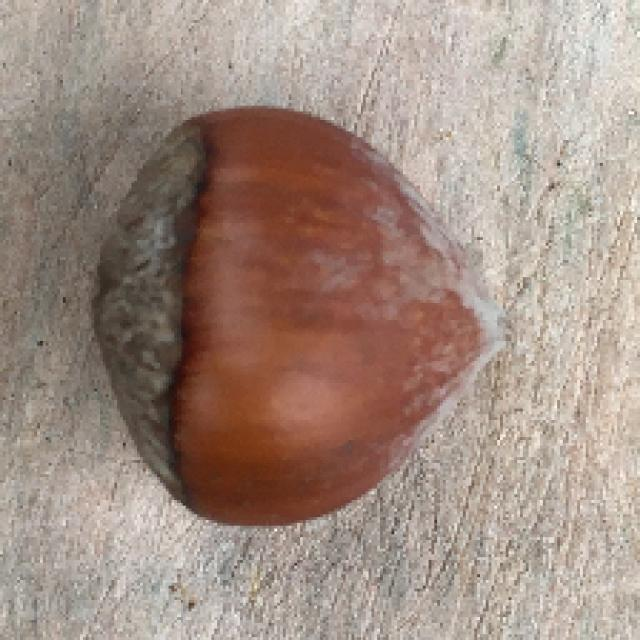qualityHazelnut: (92, 97, 510, 550)
